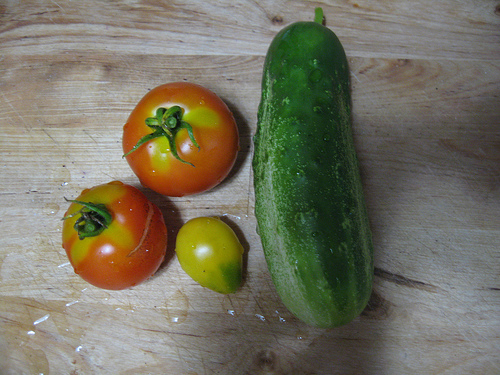cucumber: (251, 20, 374, 331)
